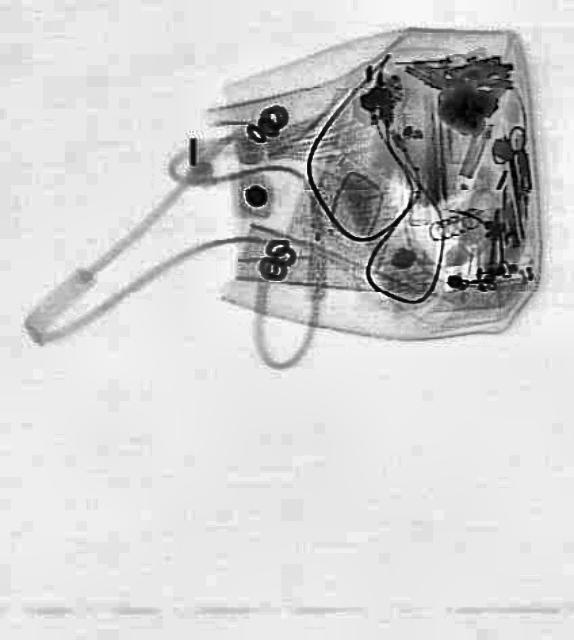Scissors: (486, 122, 544, 220)
